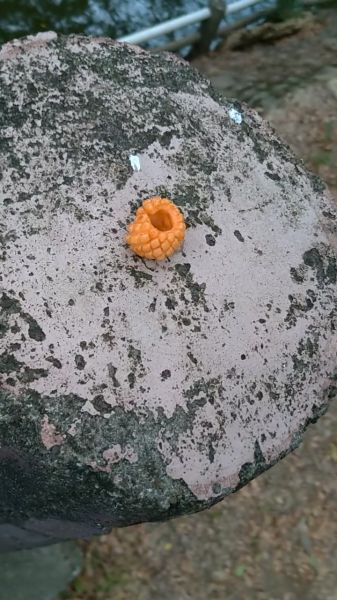eggs: (123, 190, 191, 258)
